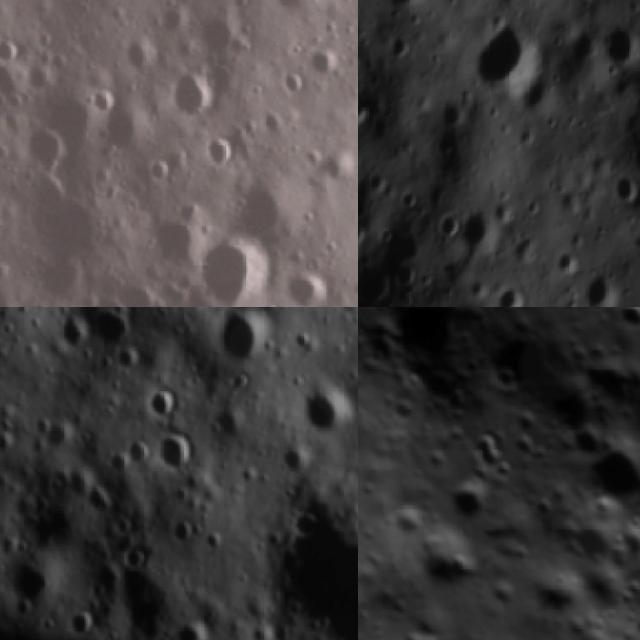crater: (245, 490, 358, 640), (402, 518, 491, 609), (460, 12, 542, 108), (188, 221, 277, 307), (569, 416, 640, 521), (542, 501, 622, 583), (203, 307, 276, 375), (0, 545, 63, 616), (441, 466, 504, 530), (20, 111, 76, 182), (164, 65, 224, 125), (596, 496, 640, 573), (299, 385, 358, 442), (85, 307, 145, 356), (148, 426, 206, 474), (382, 611, 462, 640), (578, 263, 627, 307), (282, 268, 336, 307), (32, 413, 77, 458), (143, 378, 183, 427), (600, 307, 640, 348), (80, 82, 120, 122), (194, 136, 236, 174), (358, 81, 384, 141), (305, 46, 347, 82), (274, 437, 310, 477), (137, 151, 171, 192), (604, 169, 640, 206), (123, 431, 155, 472), (376, 0, 427, 24), (490, 277, 530, 307), (65, 606, 98, 640), (170, 619, 219, 640), (264, 0, 317, 19), (0, 29, 22, 70)
